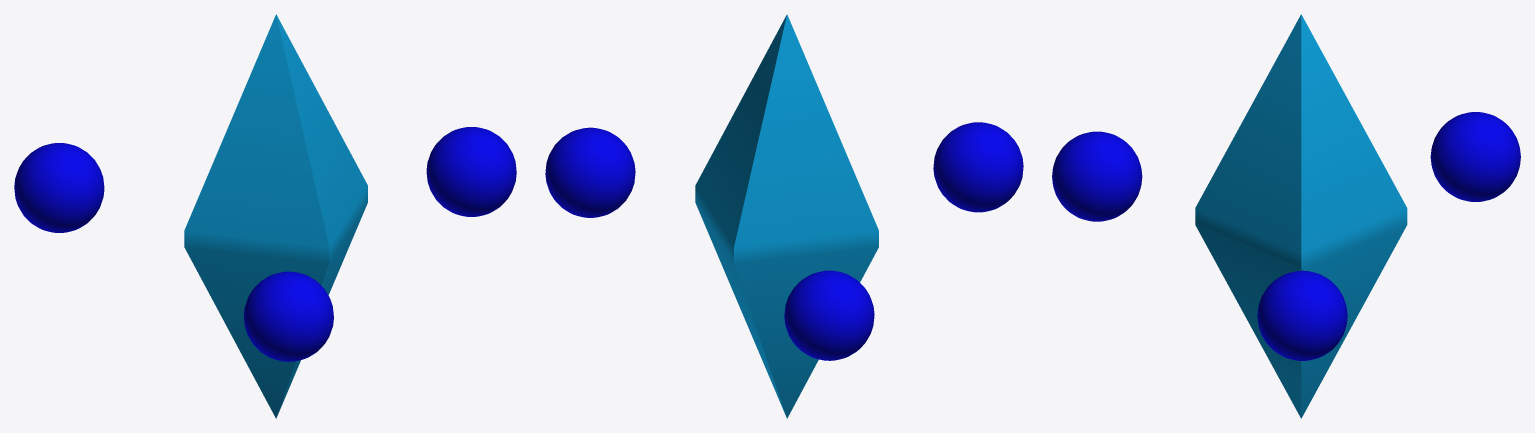
File: crystal.glb
3 renders of one model, left to right at view 1: azimuth 30°, elevation 25°; view 2: azimuth 150°, elevation 25°; view 3: azimuth 270°, elevation 25°, orthographic.
Parts seen in each view (by area): view 1: Cube.001, Sphere.005; view 2: Cube.001, Sphere.005; view 3: Cube.001, Sphere.005.
Boxes of the visible parts, x1=… form: Cube.001: x1=184, y1=14, x2=367, y2=418; Sphere.005: x1=14, y1=127, x2=516, y2=361; Cube.001: x1=695, y1=14, x2=878, y2=418; Sphere.005: x1=545, y1=122, x2=1023, y2=360; Cube.001: x1=1195, y1=14, x2=1407, y2=418; Sphere.005: x1=1052, y1=112, x2=1520, y2=360.
Size of the model in its own units: 0.5935 by 0.5687 by 0.5969.
